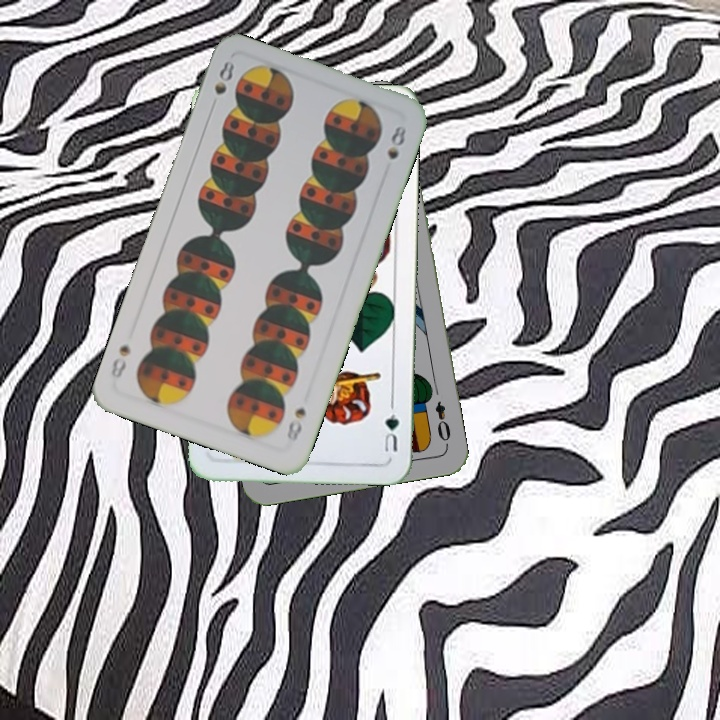EO: (431, 397, 454, 449)
GU: (380, 410, 401, 455)
S8: (282, 403, 309, 445), (210, 57, 237, 98)
